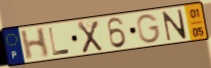6: (106, 16, 128, 50)
G: (136, 13, 162, 45)
H: (19, 26, 51, 62)
L: (47, 26, 72, 57)
N: (161, 8, 188, 42)
X: (76, 19, 104, 54)
